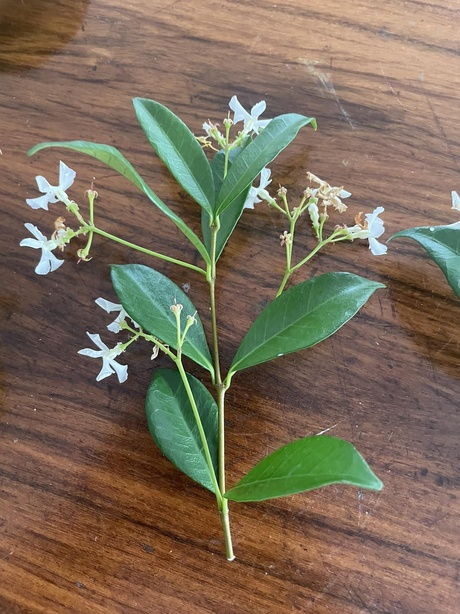leaf: (101, 257, 227, 377), (138, 357, 229, 508), (224, 429, 380, 515), (126, 94, 223, 216)
